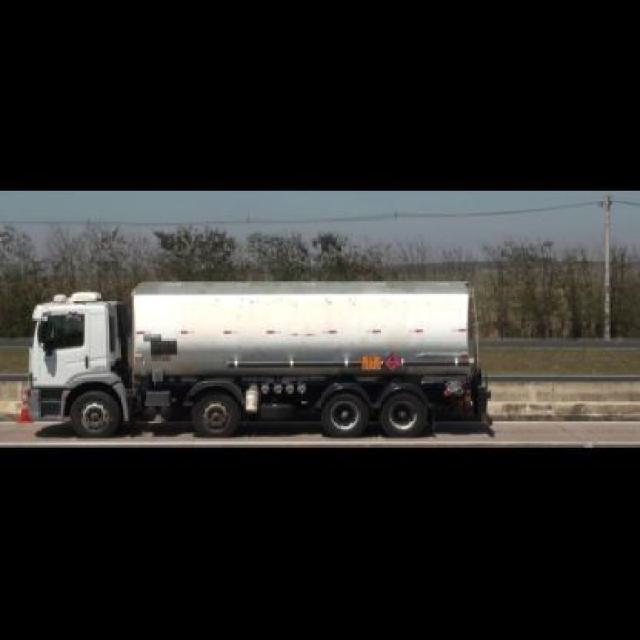truck: (21, 281, 483, 441)
